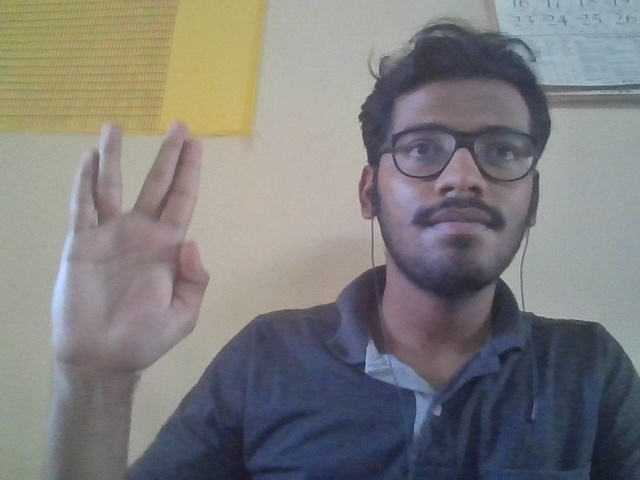LiveLong: (51, 115, 209, 380)
